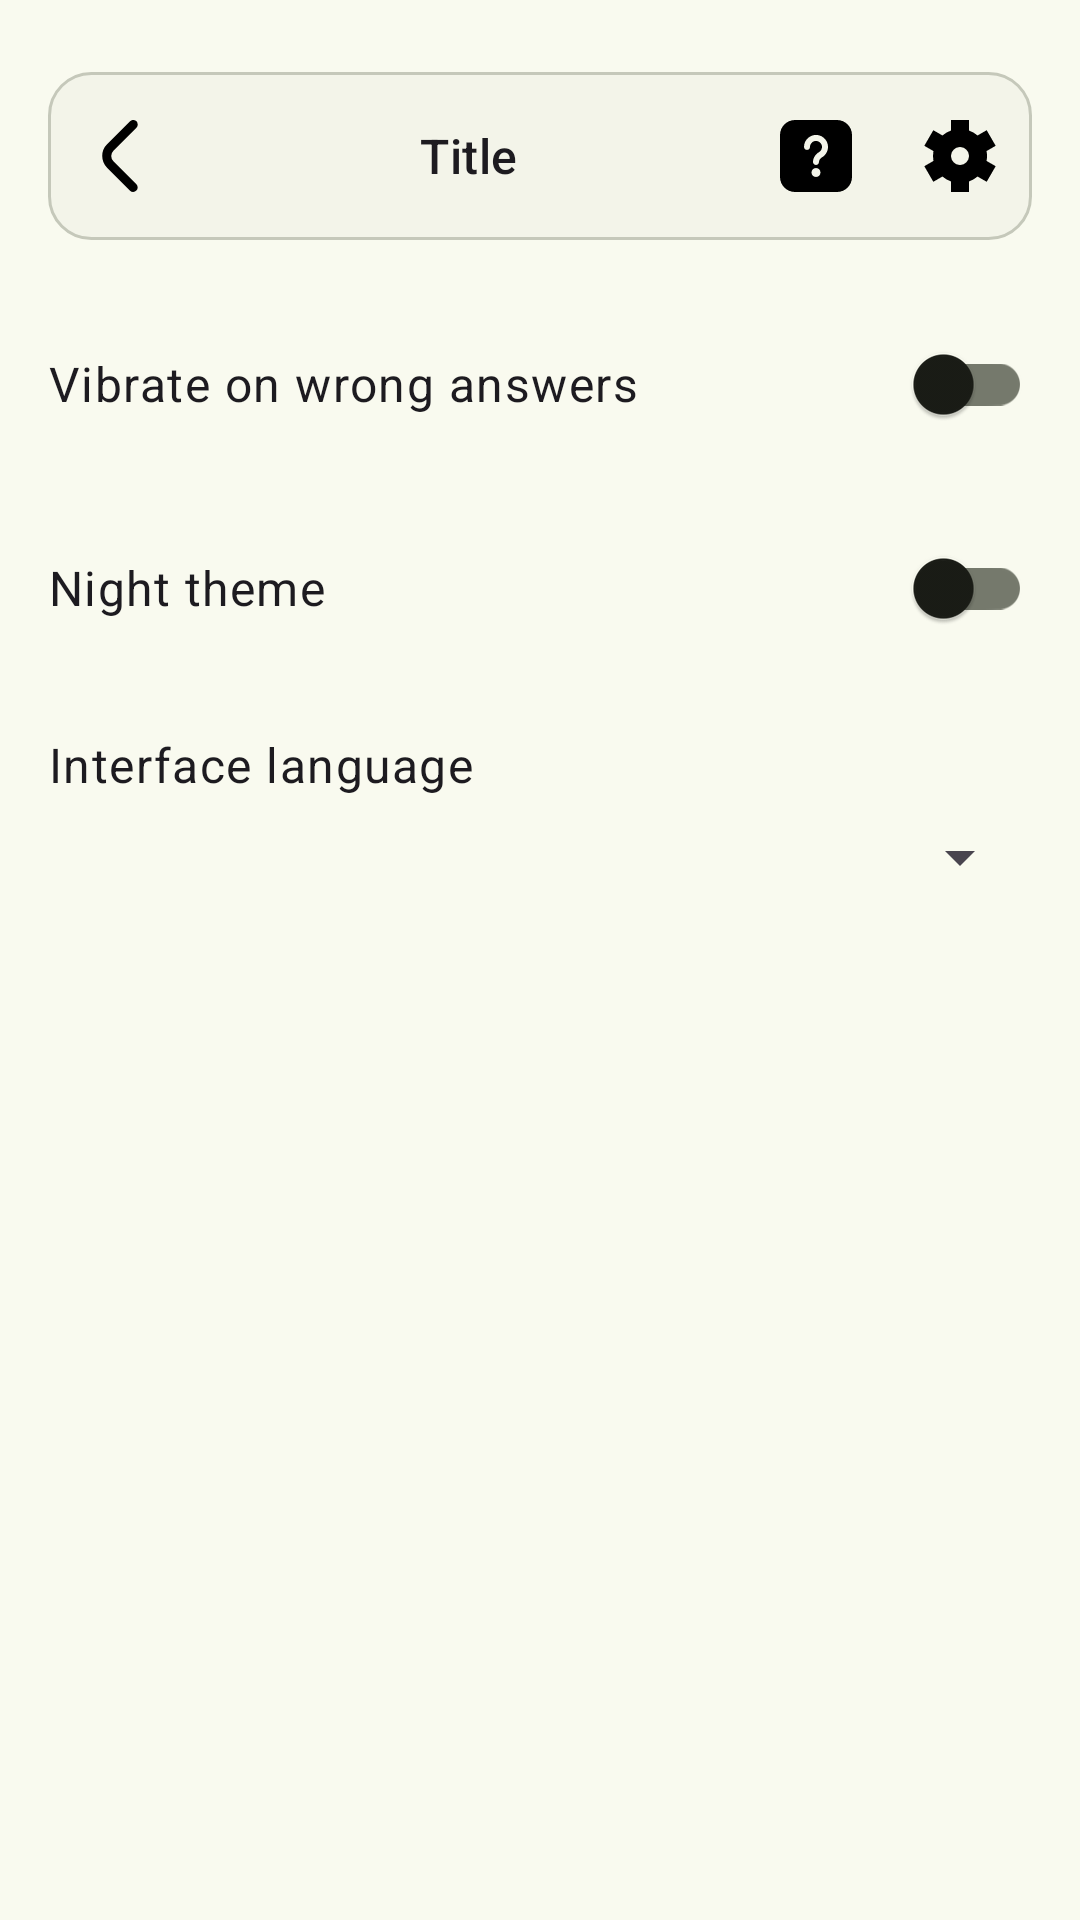

Screen size 1080 × 1920. Icon name, then its center in pixels as [x,y]:
Back button: [120,156]
Hints: [816,156]
Options: [960,156]
